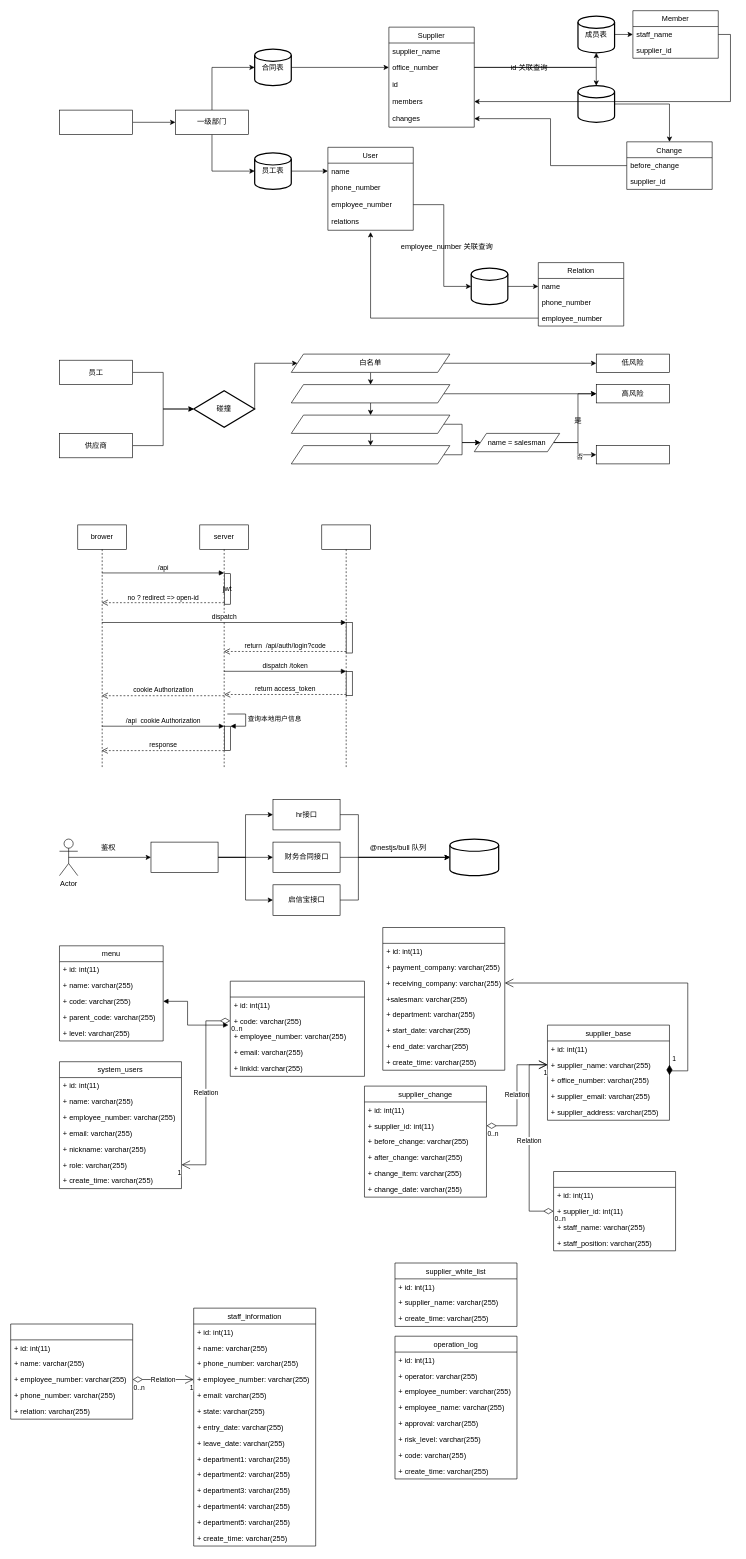
This 746x1559 diagram has some shape labels left out. The box of each missing label's shape, as (x1, y1, x2, y2) in pixels:
before_change 包含 name before_change 包含 relation.name: (291, 445, 450, 464)
contract: (382, 927, 505, 1070)
mysql: (449, 838, 499, 876)
name = staff_name relation.name = staff_name: (291, 414, 450, 433)
Nestjs服务: (150, 841, 218, 873)
open-id: (321, 524, 371, 769)
phone_number = office_number relation.phone_number = office_number: (291, 384, 450, 403)
staff_releation: (10, 1323, 133, 1419)
supplier_member: (553, 1171, 676, 1251)
user_menu_auth: (230, 981, 364, 1076)
中风险: (596, 445, 669, 464)
事业群: (59, 109, 133, 135)
变更表: (577, 85, 615, 123)
员工关联表: (470, 267, 508, 305)
